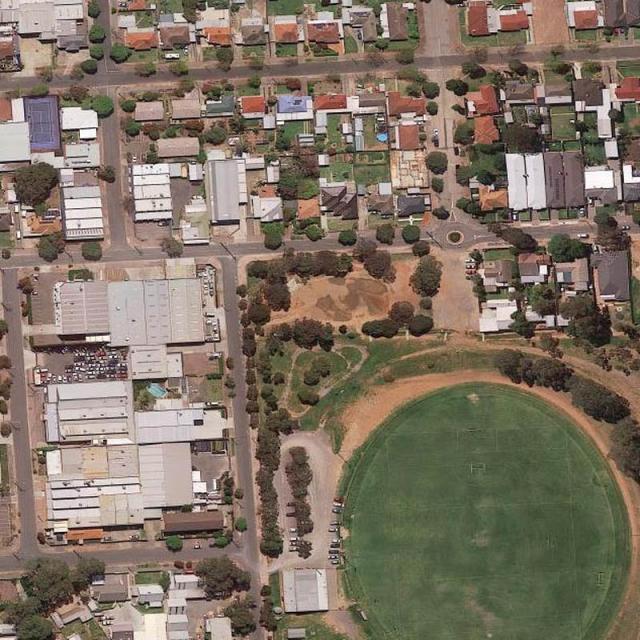vehicle: (575, 231, 589, 238), (618, 223, 631, 230), (330, 507, 342, 514), (102, 615, 115, 621), (511, 210, 518, 221), (203, 311, 214, 318), (326, 554, 340, 559), (35, 369, 49, 374), (288, 526, 299, 532), (288, 536, 299, 542), (578, 207, 584, 218), (74, 356, 85, 362), (103, 535, 114, 541), (206, 401, 219, 406), (285, 511, 298, 516), (587, 197, 594, 206), (329, 520, 341, 525), (288, 546, 300, 551), (76, 366, 86, 372), (102, 621, 114, 626), (191, 544, 202, 549), (330, 538, 341, 543), (330, 543, 341, 548), (327, 549, 338, 554), (330, 559, 341, 564), (74, 362, 85, 367), (129, 534, 140, 539), (433, 127, 438, 138), (107, 354, 120, 358), (285, 501, 295, 506), (464, 257, 474, 262), (96, 374, 106, 379), (434, 138, 439, 148), (332, 502, 344, 506), (72, 373, 78, 381), (62, 374, 67, 383), (327, 528, 338, 532), (288, 541, 299, 545), (78, 371, 82, 382), (96, 366, 107, 370), (334, 497, 342, 502), (183, 45, 188, 53), (58, 373, 62, 383), (64, 369, 74, 373), (86, 352, 96, 356), (65, 364, 75, 368), (85, 374, 95, 378), (97, 363, 107, 367), (117, 374, 127, 378), (116, 370, 126, 374), (106, 366, 116, 370), (117, 366, 127, 370), (87, 356, 96, 360), (86, 371, 95, 375), (85, 366, 94, 370), (96, 370, 105, 374), (106, 374, 115, 378), (106, 370, 115, 374), (454, 146, 458, 155), (132, 154, 137, 161), (464, 265, 475, 268), (75, 353, 86, 356), (47, 373, 51, 381), (42, 380, 50, 384), (96, 367, 106, 370), (117, 363, 127, 366), (88, 364, 97, 367), (53, 374, 56, 382), (98, 360, 106, 363), (99, 357, 106, 359)
